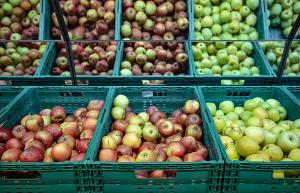apple: (106, 88, 222, 166), (0, 89, 104, 163), (202, 90, 300, 162), (43, 0, 119, 40), (193, 0, 265, 42), (192, 42, 274, 78), (120, 0, 192, 40), (118, 42, 192, 78), (51, 42, 118, 75), (0, 43, 52, 77), (0, 0, 42, 40), (266, 0, 300, 40), (266, 40, 300, 76)
